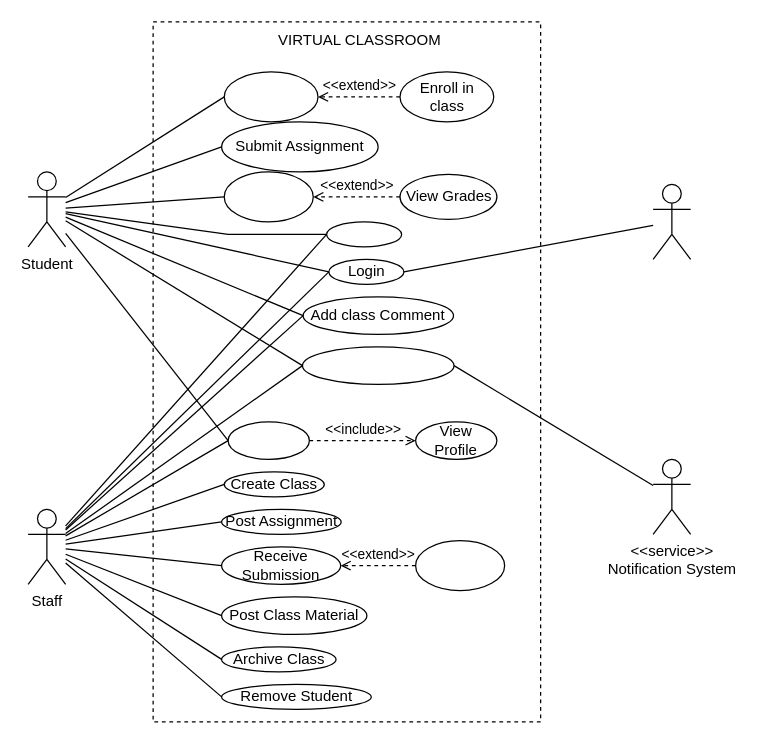
This 758x744 diagram has some shape labels left out. The shapes that lost their labels are listed below. From the top down, each one's centre as x and y in pixels, then its label:
At pixel 270 96: "Receive class invite".
At pixel 268 196: "View Assignment".
At pixel 363 234: "Signup".
At pixel 671 221: "<<service>> Authentication".
At pixel 377 365: "Receive Notifications".
At pixel 268 440: "Update Profile".
At pixel 459 565: "Grade Assignment".
